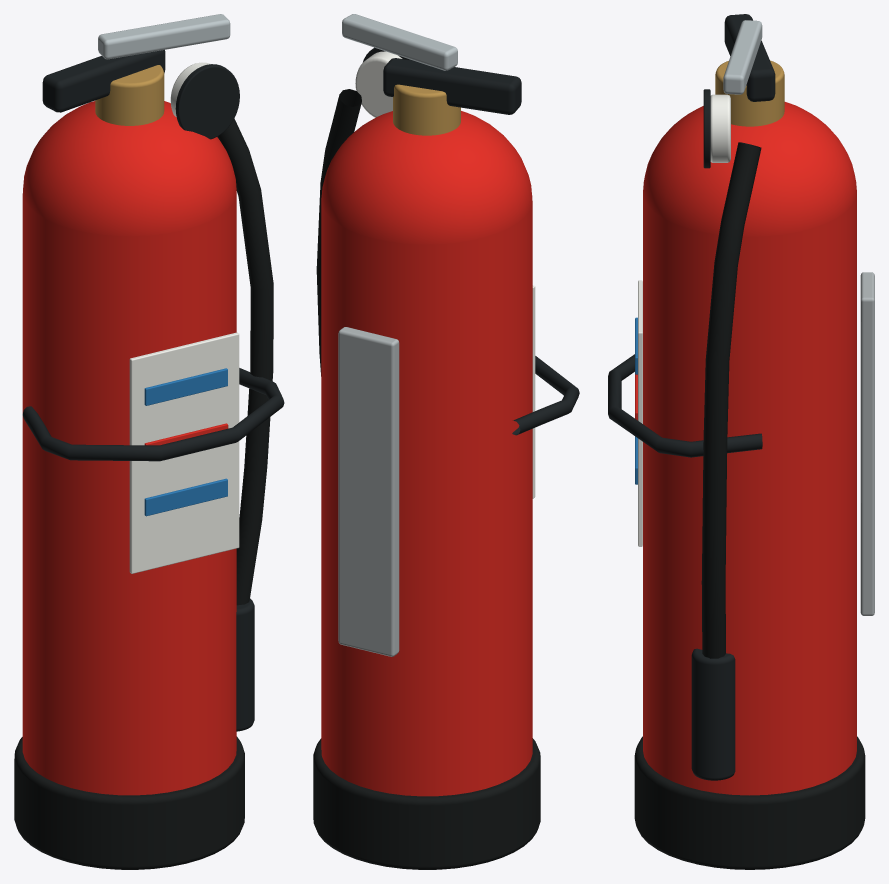
The model's file is fire-extinguisher.glb.
3 views of the same model, side by side, from view 1: azimuth 30°, elevation 25°; view 2: azimuth 150°, elevation 25°; view 3: azimuth 270°, elevation 25° (orthographic).
Parts seen in each view (by area): view 1: Runtime batch - Safety red powder coat, Runtime batch - Black leveling-foot rubber, Runtime batch - Matte equipment label, Runtime batch - Black engineering polymer, Runtime batch - Brushed stainless steel, Runtime batch - Technical label blue, Runtime batch - Valve brass; view 2: Runtime batch - Safety red powder coat, Runtime batch - Zinc plated hardware, Runtime batch - Black leveling-foot rubber, Runtime batch - Black engineering polymer, Runtime batch - Brushed stainless steel, Runtime batch - Valve brass, Runtime batch - Matte equipment label; view 3: Runtime batch - Safety red powder coat, Runtime batch - Black leveling-foot rubber, Runtime batch - Black engineering polymer, Runtime batch - Zinc plated hardware, Runtime batch - Matte equipment label, Runtime batch - Valve brass, Runtime batch - Brushed stainless steel.
Part boxes in pixels (<box>): Runtime batch - Safety red powder coat: <box>22,101,236,795</box>; Runtime batch - Black leveling-foot rubber: <box>14,118,273,869</box>; Runtime batch - Matte equipment label: <box>129,62,239,573</box>; Runtime batch - Black engineering polymer: <box>22,50,284,731</box>; Runtime batch - Brushed stainless steel: <box>98,14,230,59</box>; Runtime batch - Technical label blue: <box>144,368,227,516</box>; Runtime batch - Valve brass: <box>95,65,164,125</box>; Runtime batch - Safety red powder coat: <box>321,111,532,796</box>; Runtime batch - Zinc plated hardware: <box>338,327,399,656</box>; Runtime batch - Black leveling-foot rubber: <box>313,89,540,869</box>; Runtime batch - Black engineering polymer: <box>363,47,579,435</box>; Runtime batch - Brushed stainless steel: <box>342,14,457,70</box>; Runtime batch - Valve brass: <box>393,84,460,135</box>; Runtime batch - Matte equipment label: <box>355,51,535,498</box>; Runtime batch - Safety red powder coat: <box>635,102,856,795</box>; Runtime batch - Black leveling-foot rubber: <box>634,142,865,869</box>; Runtime batch - Black engineering polymer: <box>608,14,775,780</box>; Runtime batch - Zinc plated hardware: <box>860,272,874,615</box>; Runtime batch - Matte equipment label: <box>638,94,730,546</box>; Runtime batch - Valve brass: <box>715,60,784,126</box>; Runtime batch - Brushed stainless steel: <box>723,20,762,94</box>.
Size of the model in its own units: 0.2098 by 0.65 by 0.1987.
